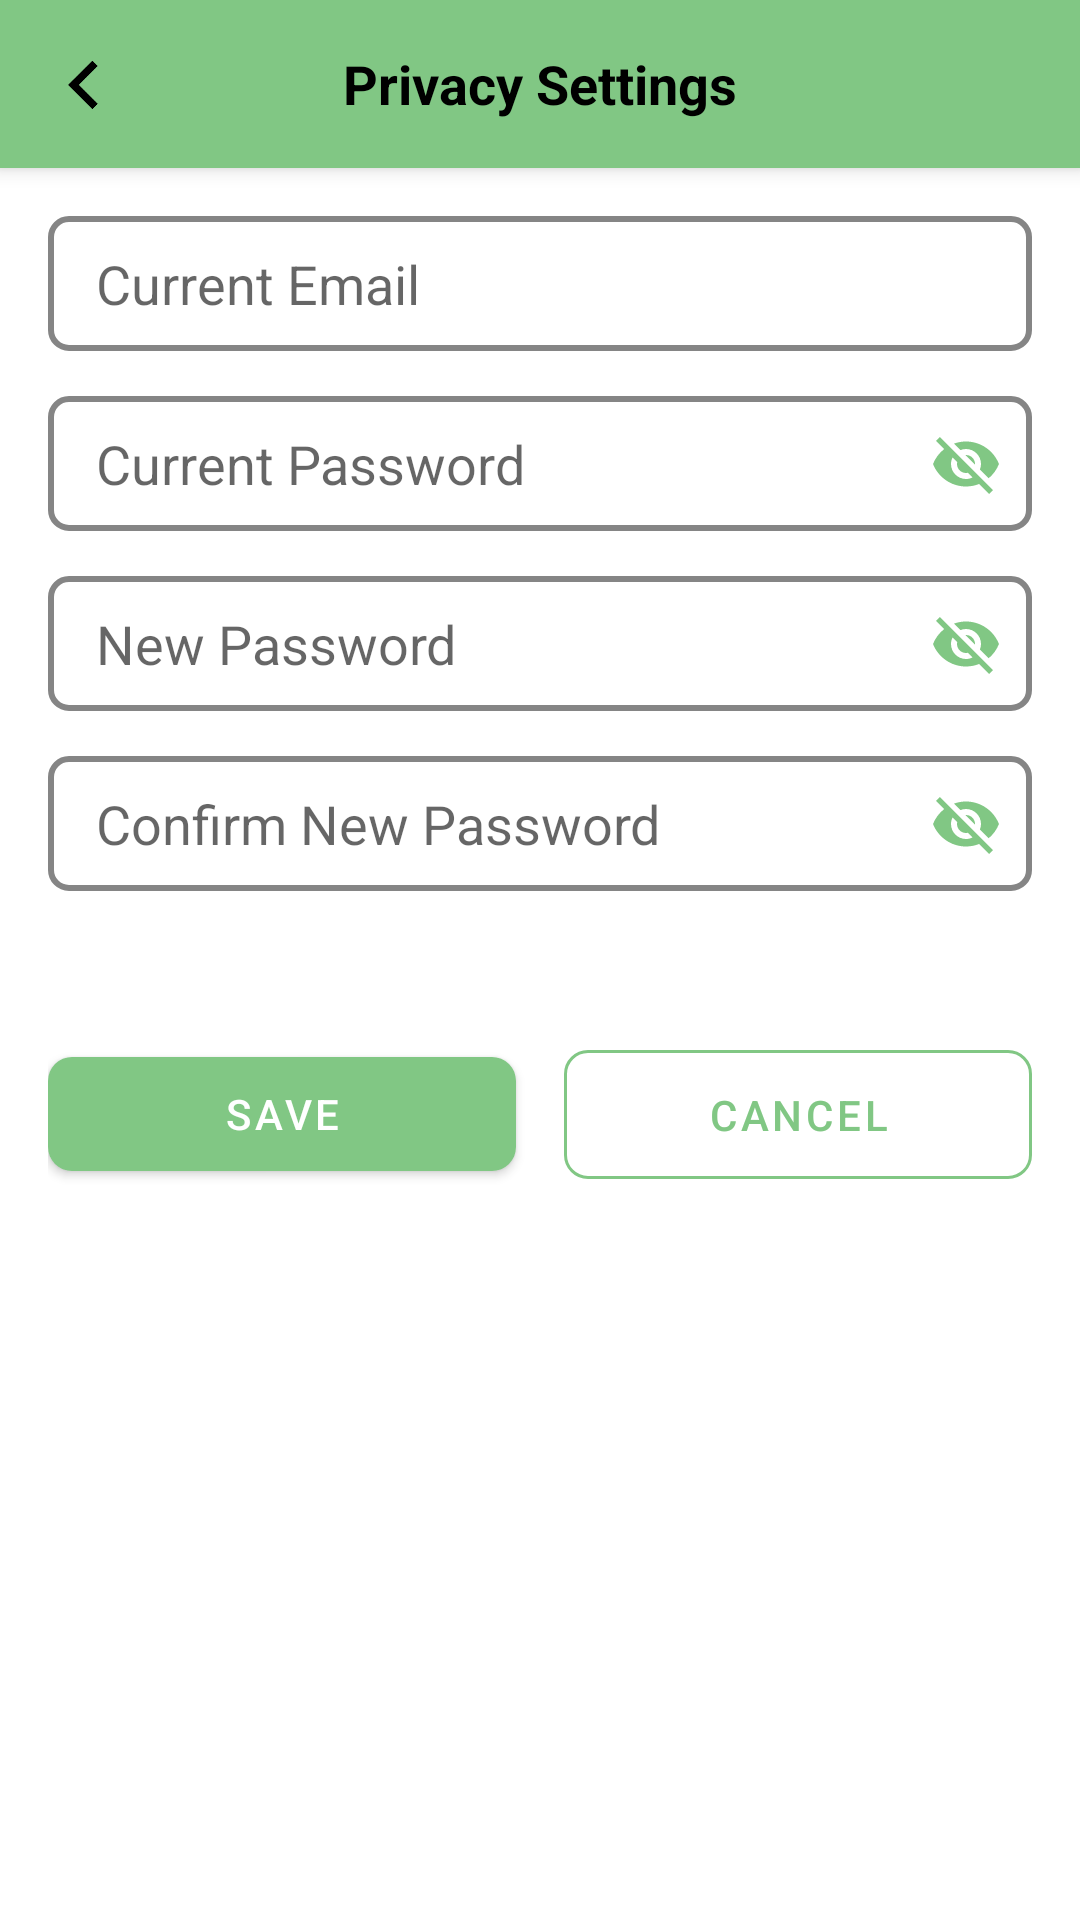

Screen size 1080px x 1920px. Icon name, then its center in pixels as point (x, y):
Toggle password visibility: point (966, 464), point (966, 644), point (966, 824)
